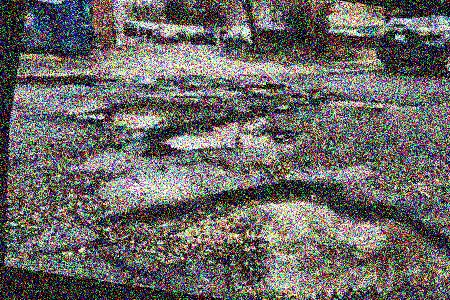pothole: (78, 129, 450, 300), (141, 88, 308, 181), (84, 89, 177, 140), (331, 87, 410, 117), (242, 79, 278, 99)
